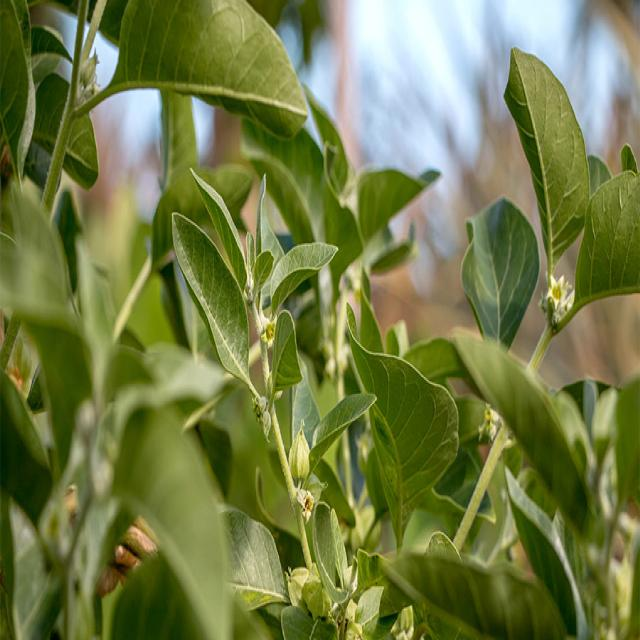Ashwagandha: (105, 103, 470, 640), (14, 13, 314, 569), (345, 65, 616, 640), (463, 0, 634, 416)
